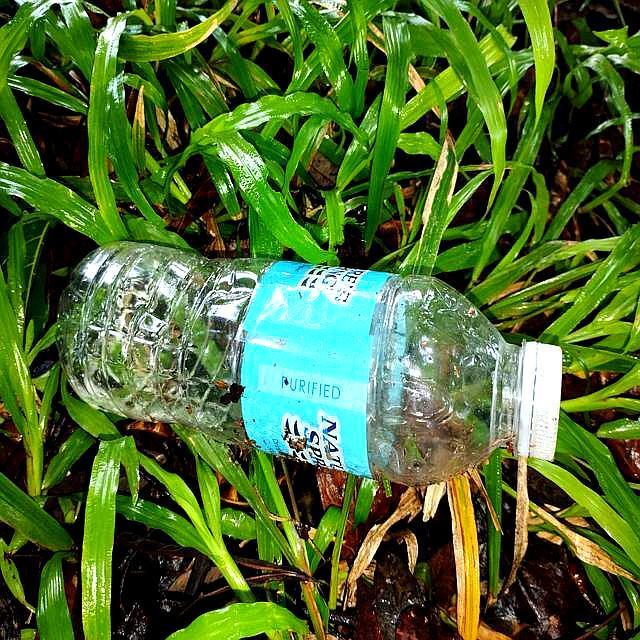Non-biodegradable: (61, 207, 577, 529)
